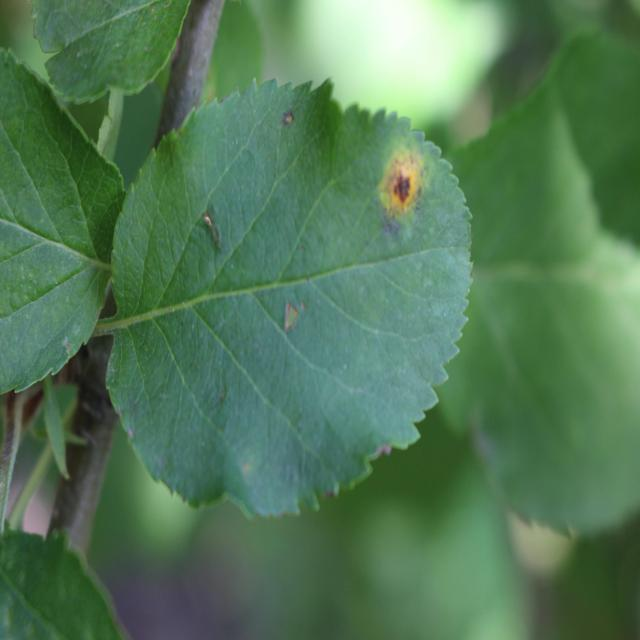Rust: (350, 125, 440, 250)
